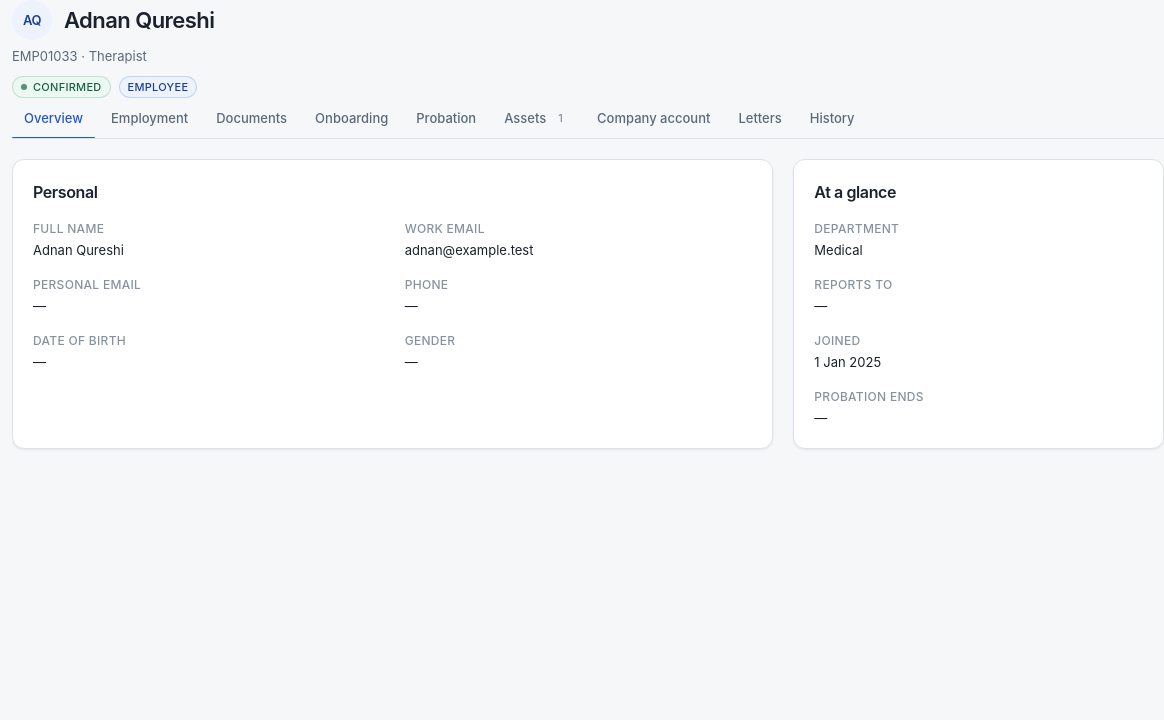
Test case: Employee profile assets › offers employees no assign or return controls on their own assets
The image size is (1164, 720).
Click the tab "Assets 1": [537, 118] box [492,98,581,138]
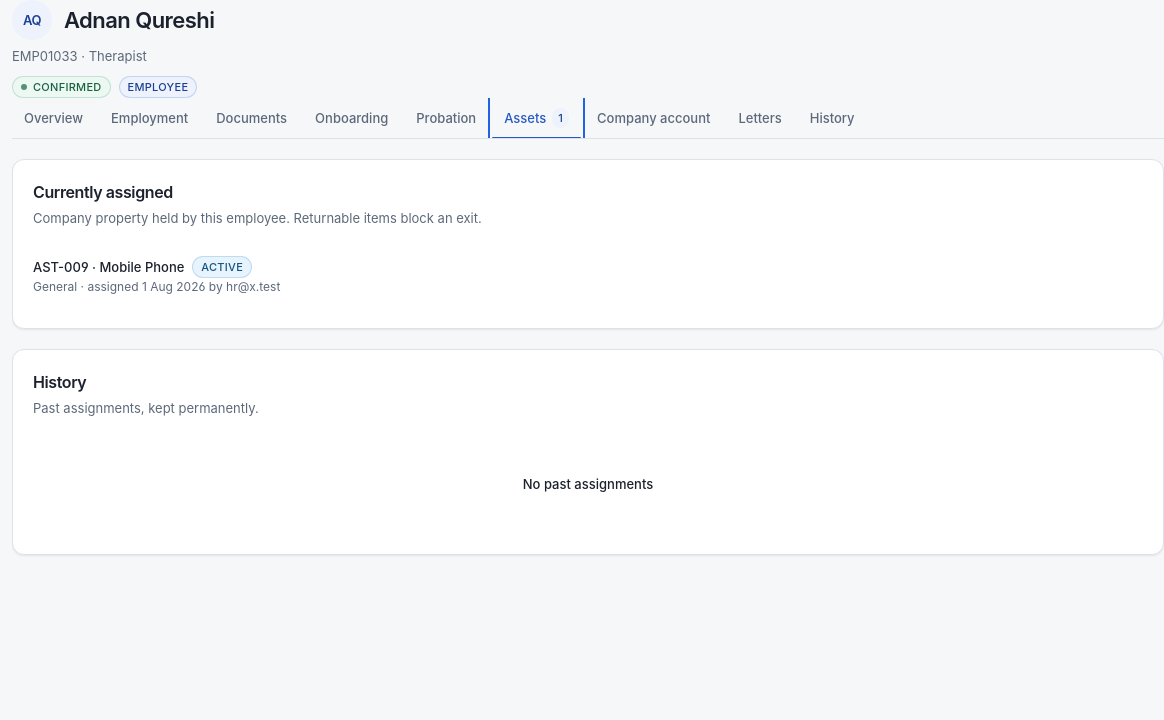
Check: the text "AST-009 · Mobile Phone" is shown, box [33,257,184,277]
